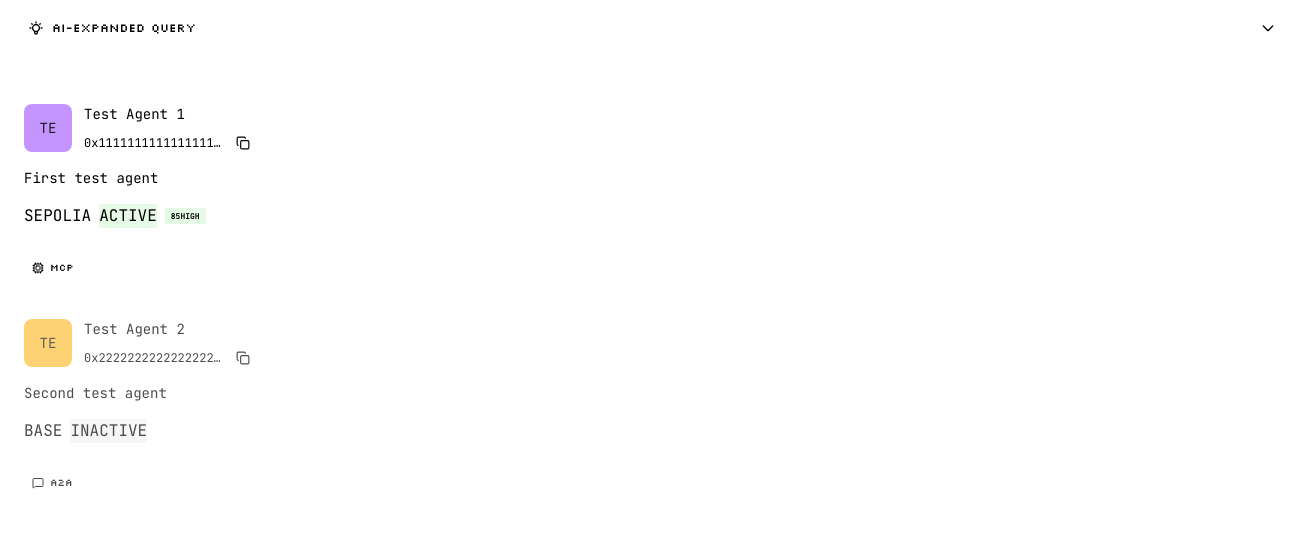
SearchResults › HyDE query display › collapses HyDE query content when clicked again
Click the button with test id "hyde-query-toggle".
click(124, 28)  # box [12,12,1292,44]
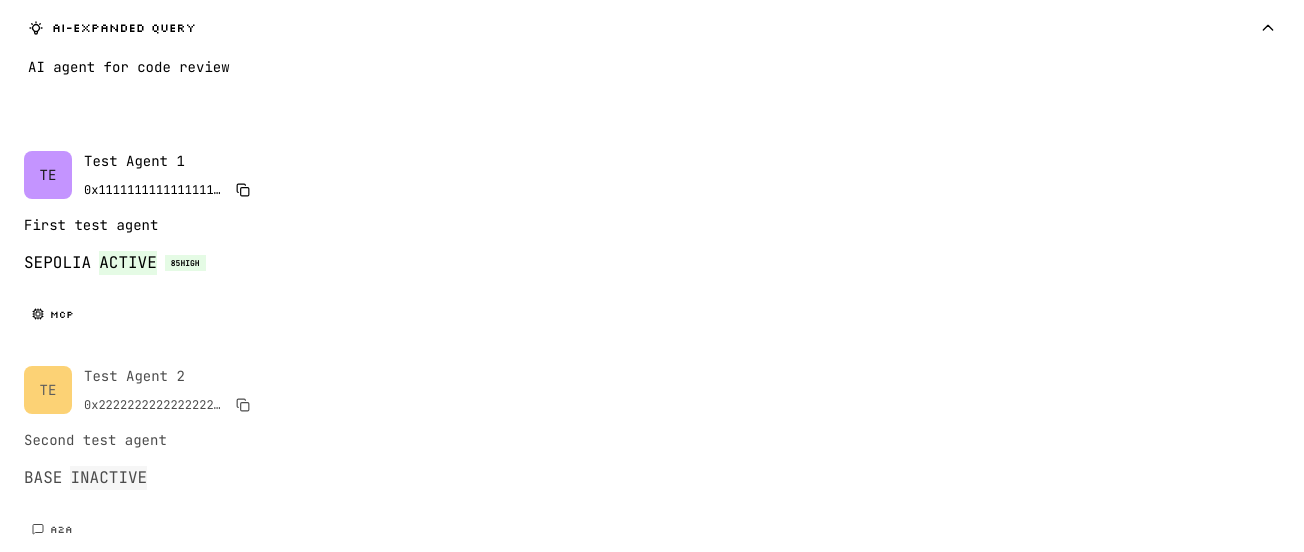
Check: the element with test id "hyde-query-content" is shown, box [28,58,230,76]
Click the button with test id "hyde-query-toggle".
click(124, 28)  # box [12,12,1292,44]
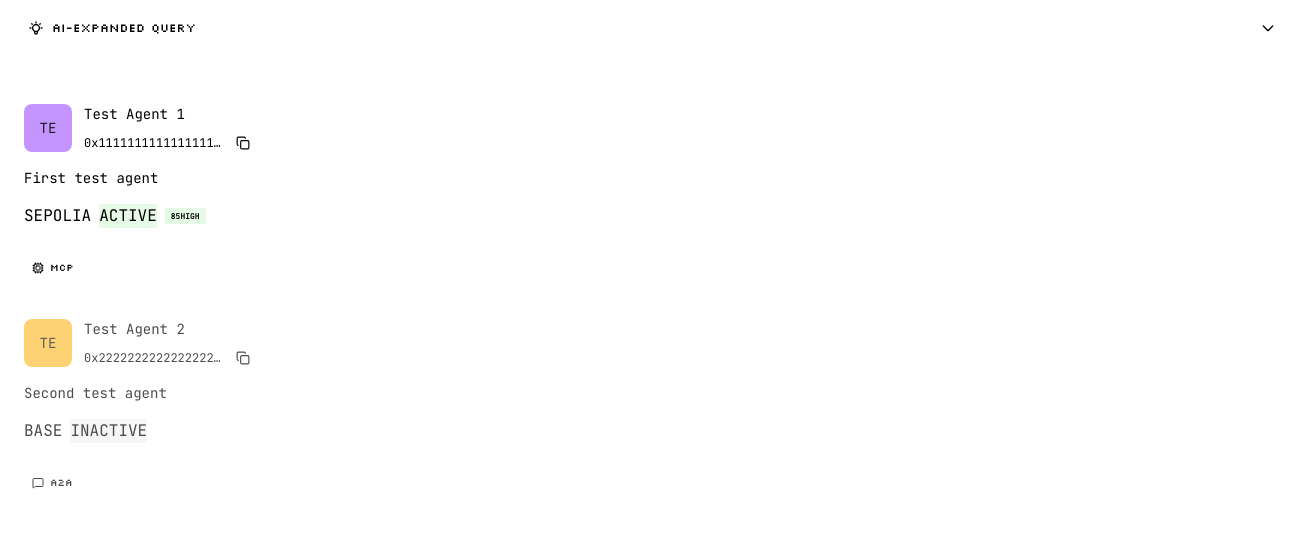
Check: the element with test id "hyde-query-content" is gone
